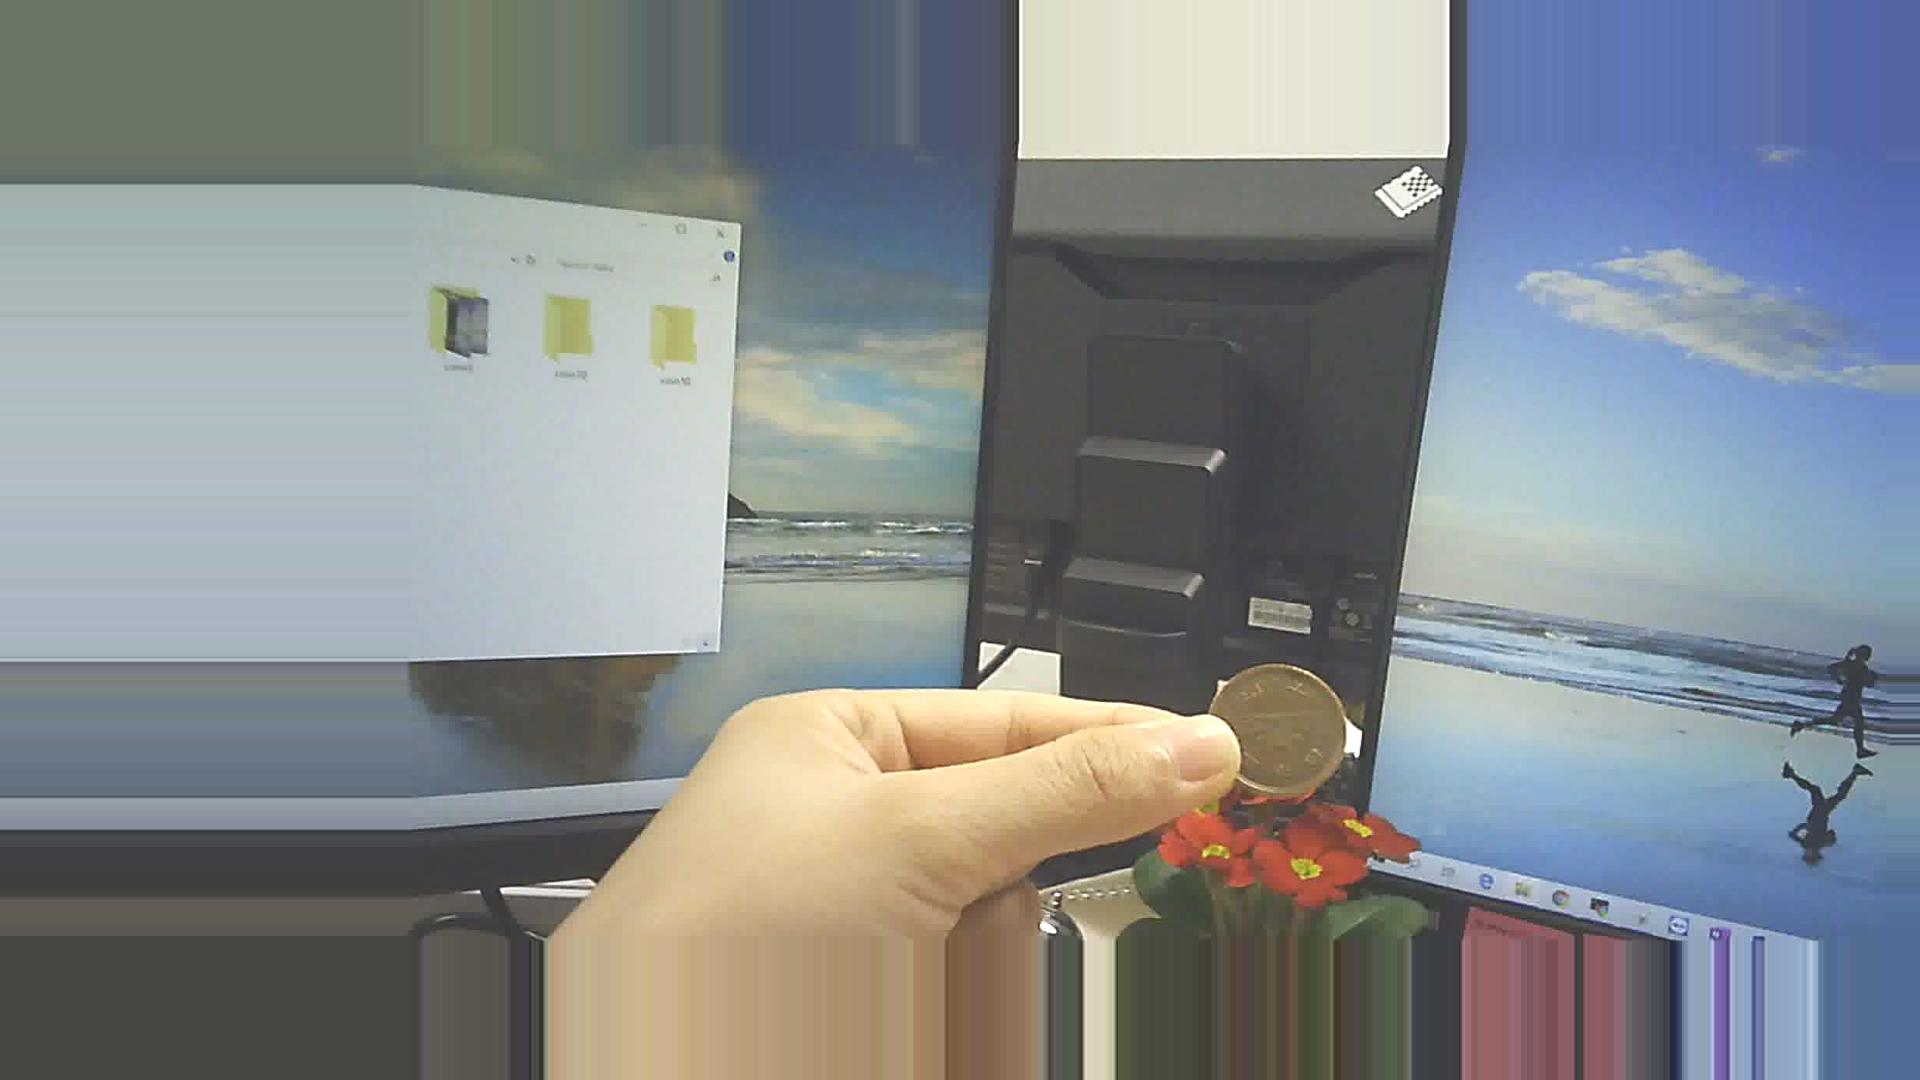10 Yen: (1195, 647, 1371, 800)
